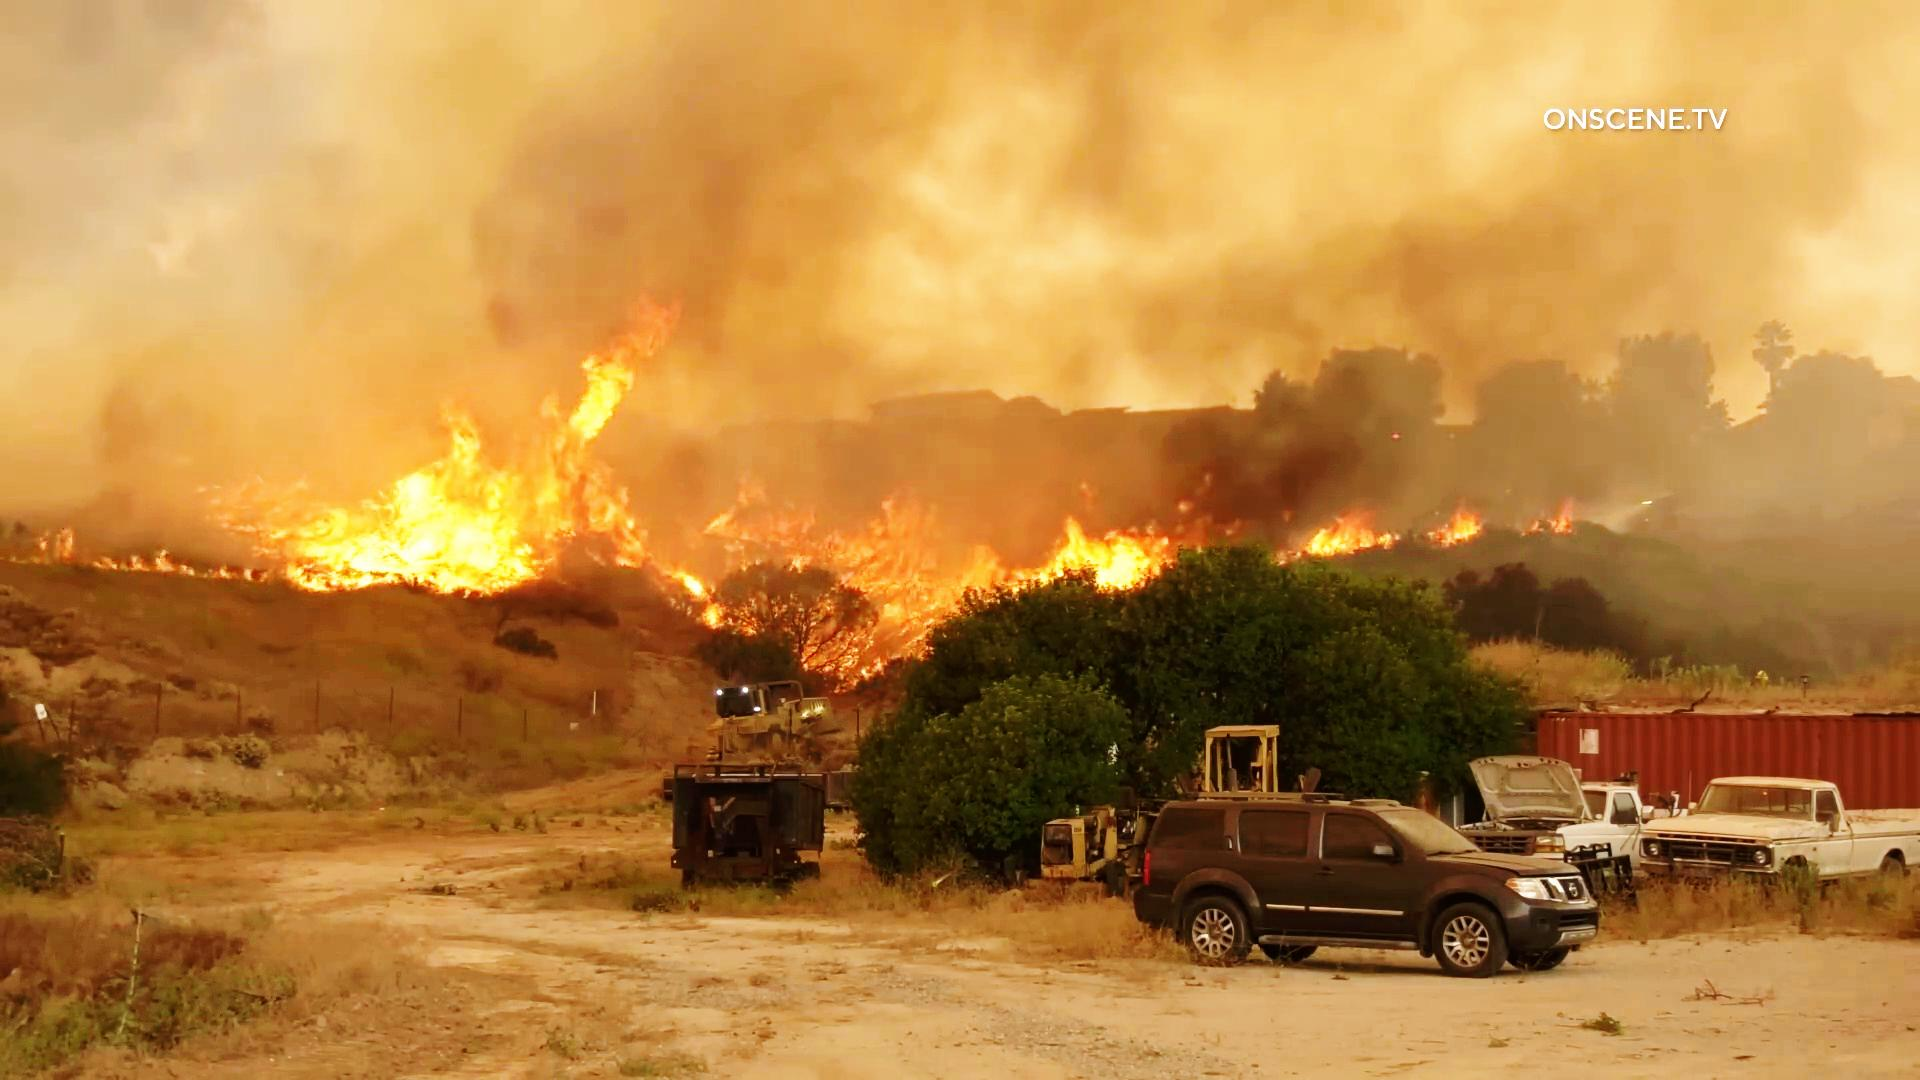fire: (153, 310, 717, 618), (728, 458, 990, 680), (1046, 493, 1191, 604), (1295, 493, 1408, 572), (1433, 493, 1487, 549), (1557, 498, 1573, 533)
smoke: (356, 13, 1458, 324)
